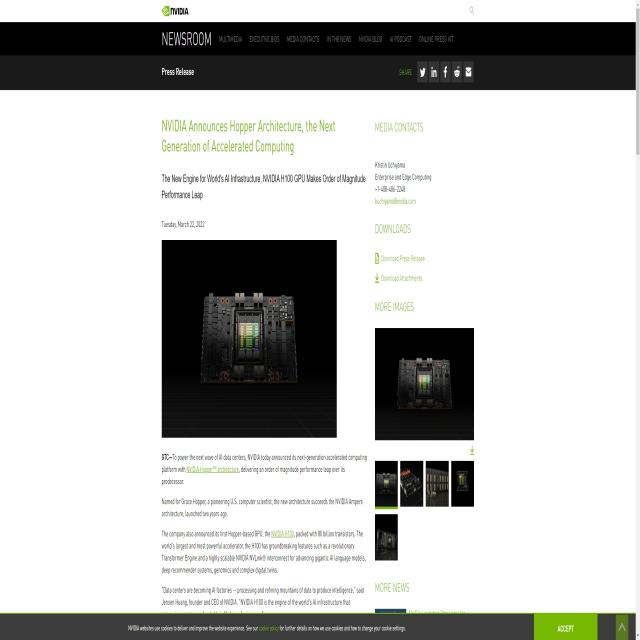side-panel: (370, 111, 496, 626)
tab-bar: (214, 26, 456, 54)
